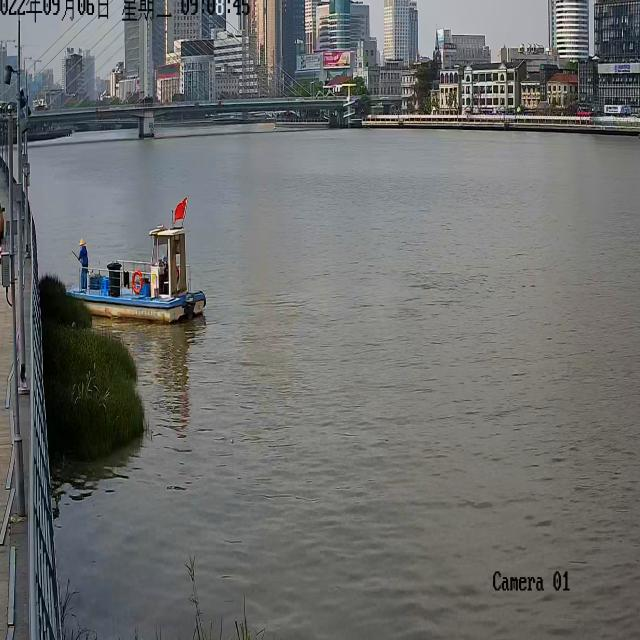ship: (66, 193, 206, 323)
